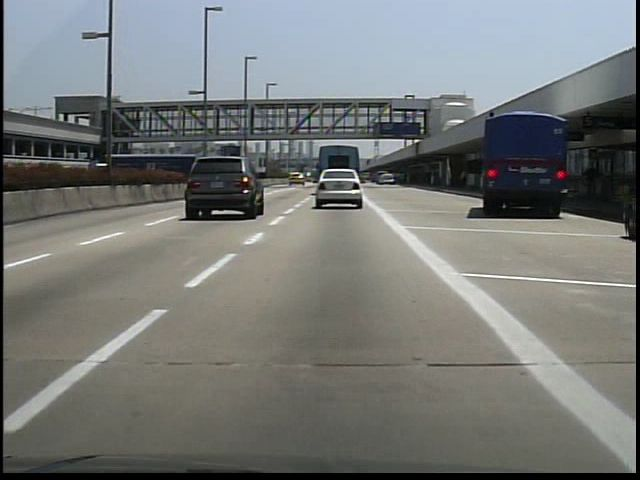car: (182, 152, 268, 218), (313, 167, 364, 210), (288, 167, 309, 187)
strada: (21, 211, 622, 466)
